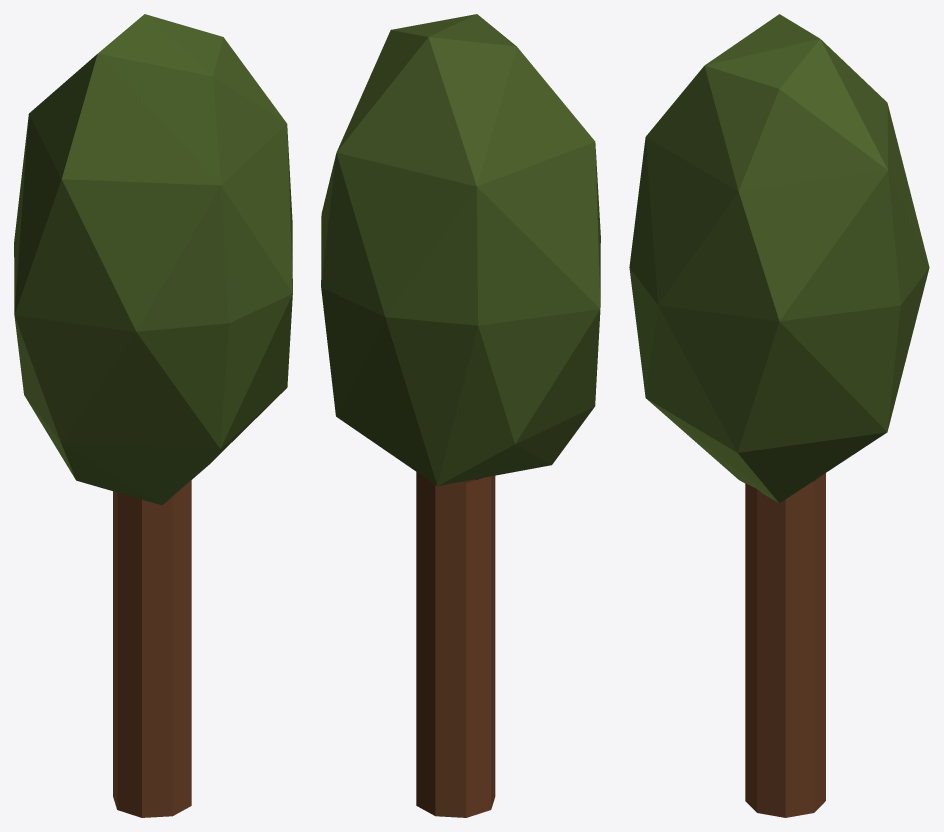
File: Tree_5.fbx
3 views of the same model, side by side, from view 1: azimuth 30°, elevation 25°; view 2: azimuth 150°, elevation 25°; view 3: azimuth 270°, elevation 25° (orthographic).
Parts seen in each view (by area): view 1: Tree_5; view 2: Tree_5; view 3: Tree_5.
Part boxes in pixels (box(x1,y1,x2,y2)): Tree_5: box(14, 14, 292, 817); Tree_5: box(321, 14, 600, 817); Tree_5: box(629, 14, 929, 817).
Size of the model in its own units: 292 by 775 by 275.
